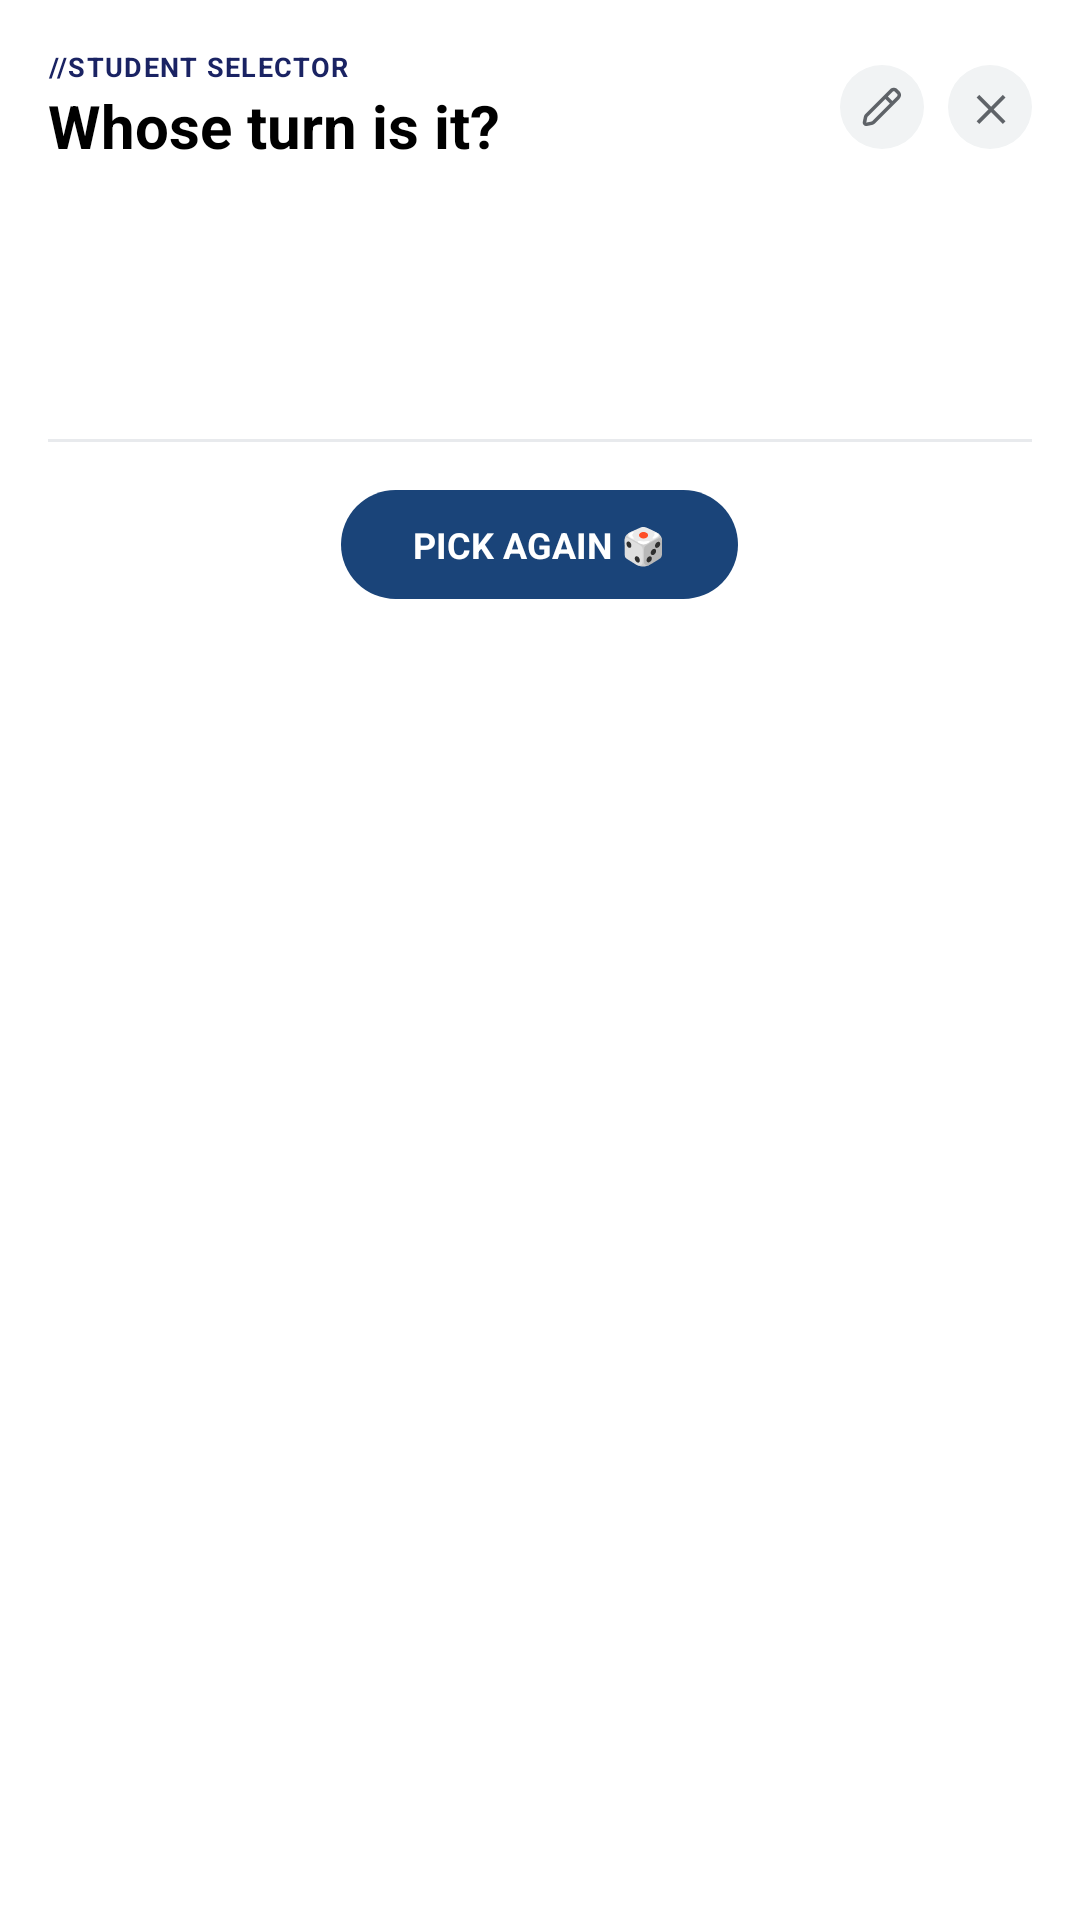

Icons on this 1080×1920 Android screen, each with the point to tap as [x,y]:
edit: [882,107]
